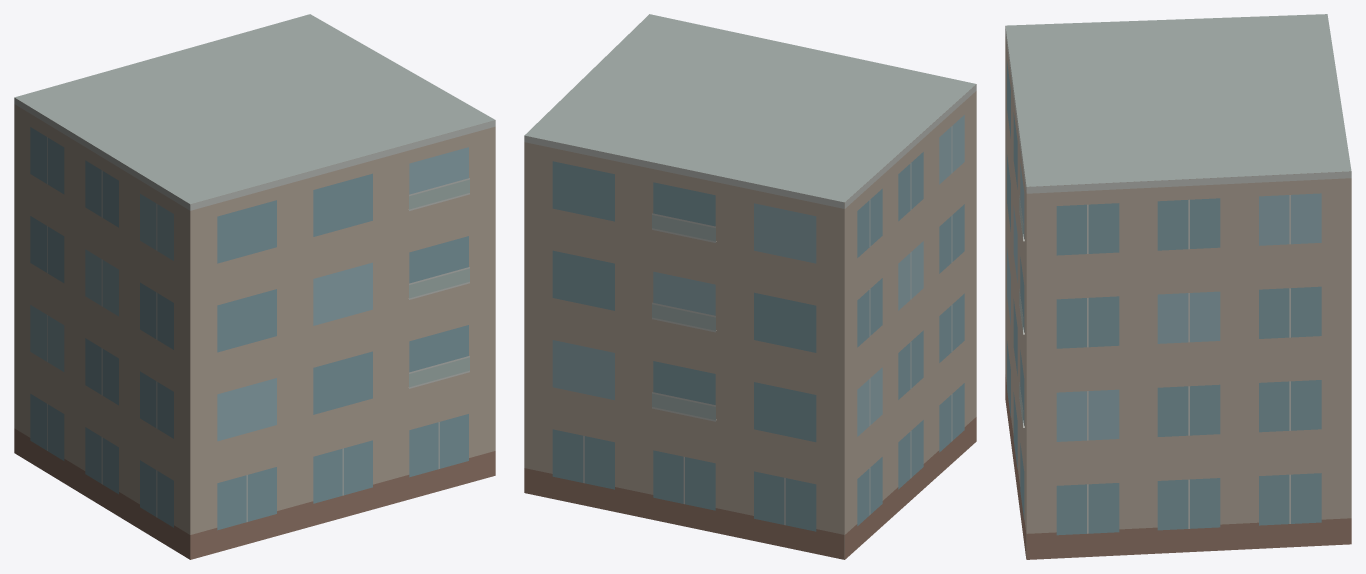
File: survey-upis-32737462.glb
3 views of the same model, side by side, from view 1: azimuth 30°, elevation 25°; view 2: azimuth 150°, elevation 25°; view 3: azimuth 270°, elevation 25° (orthographic). The views are drawn at different scales.
Parts seen in each view (by area): view 1: survey-upis-32737462.tmp; view 2: survey-upis-32737462.tmp; view 3: survey-upis-32737462.tmp.
Boxes of the visible parts, left/top/right/bottom form: survey-upis-32737462.tmp: left=14, top=14, right=495, bottom=559; survey-upis-32737462.tmp: left=524, top=14, right=976, bottom=559; survey-upis-32737462.tmp: left=1005, top=14, right=1351, bottom=559.
Size of the model in its own units: 13.18 by 13.25 by 11.16.
